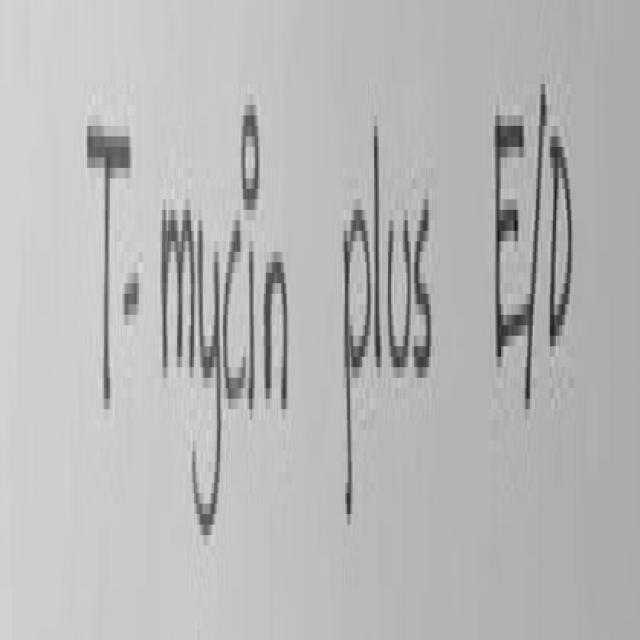D: (551, 136, 573, 349)
E: (496, 115, 528, 351)
T: (88, 126, 130, 393)
c: (223, 220, 246, 399)
i: (243, 105, 260, 205), (249, 241, 254, 404)
l: (376, 126, 382, 362)
m: (161, 201, 194, 384)
n: (266, 252, 287, 404)
p: (345, 201, 371, 509)
s: (415, 199, 432, 362)
u: (387, 220, 412, 384)
y: (192, 220, 221, 530)
